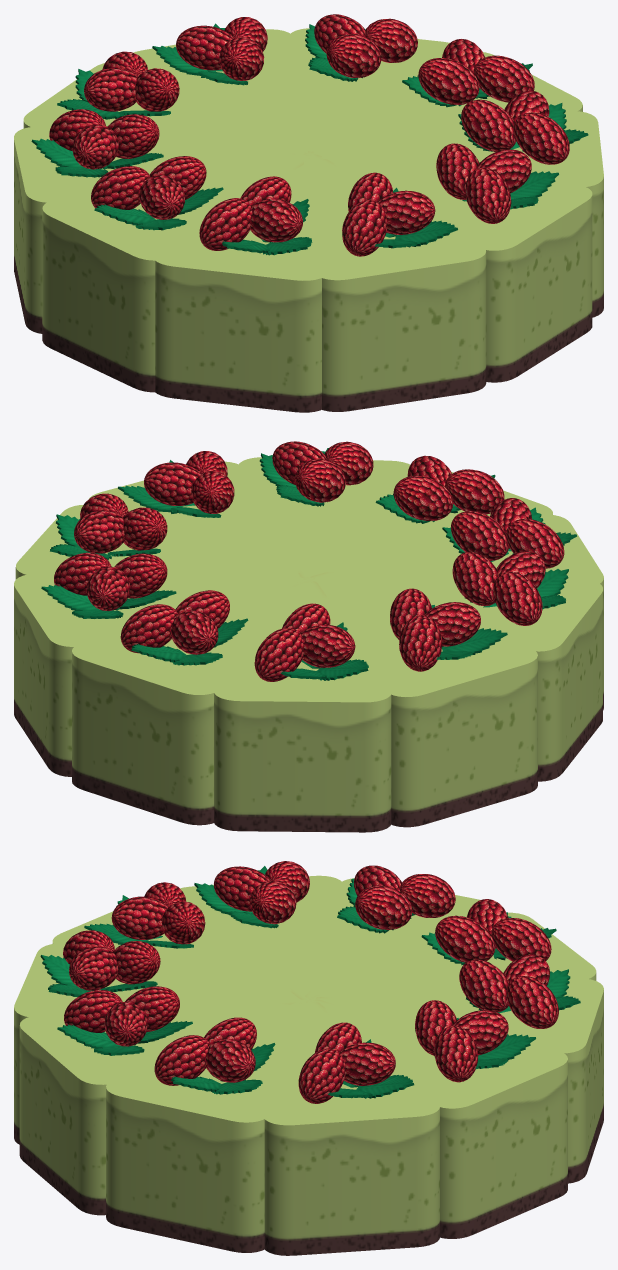
Rendered from cake10.fbx.
3 renders of one model, top to bottom at view 1: azimuth 30°, elevation 25°; view 2: azimuth 150°, elevation 25°; view 3: azimuth 270°, elevation 25°, orthographic.
Parts seen in each view (by area): view 1: pSphere4, pSphere13, pSphere12, pSphere5, pSphere11, pSphere6, pSphere9, pSphere8, pSphere10, pSphere7; view 2: pSphere10, pSphere11, pSphere9, pSphere12, pSphere8, pSphere5, pSphere6, pSphere7, pSphere13, pSphere4; view 3: pSphere7, pSphere6, pSphere8, pSphere5, pSphere9, pSphere4, pSphere12, pSphere11, pSphere10, pSphere13.
Boxes of the visible parts, bbox=[...] form: pSphere4: bbox=[303, 154, 486, 411]; pSphere13: bbox=[153, 155, 321, 412]; pSphere12: bbox=[42, 153, 311, 392]; pSphere5: bbox=[324, 143, 592, 382]; pSphere11: bbox=[14, 109, 309, 333]; pSphere6: bbox=[311, 90, 603, 317]; pSphere9: bbox=[133, 17, 315, 154]; pSphere8: bbox=[290, 14, 449, 153]; pSphere10: bbox=[23, 51, 310, 155]; pSphere7: bbox=[308, 39, 582, 155]; pSphere10: bbox=[213, 580, 391, 832]; pSphere11: bbox=[306, 579, 537, 827]; pSphere9: bbox=[72, 579, 311, 825]; pSphere12: bbox=[309, 551, 602, 781]; pSphere8: bbox=[14, 552, 308, 776]; pSphere5: bbox=[239, 441, 409, 579]; pSphere6: bbox=[89, 451, 312, 580]; pSphere7: bbox=[15, 493, 307, 579]; pSphere13: bbox=[310, 498, 603, 710]; pSphere4: bbox=[306, 455, 552, 580]; pSphere7: bbox=[262, 1000, 439, 1255]; pSphere6: bbox=[106, 1000, 309, 1252]; pSphere8: bbox=[311, 999, 567, 1238]; pSphere5: bbox=[19, 986, 308, 1215]; pSphere9: bbox=[310, 954, 603, 1183]; pSphere4: bbox=[14, 930, 309, 1144]; pSphere12: bbox=[180, 861, 344, 999]; pSphere11: bbox=[305, 865, 480, 1000]; pSphere10: bbox=[309, 899, 596, 1002]; pSphere13: bbox=[52, 882, 292, 993].
Bounding box in the file's own units: 1393 × 460 × 1391.
